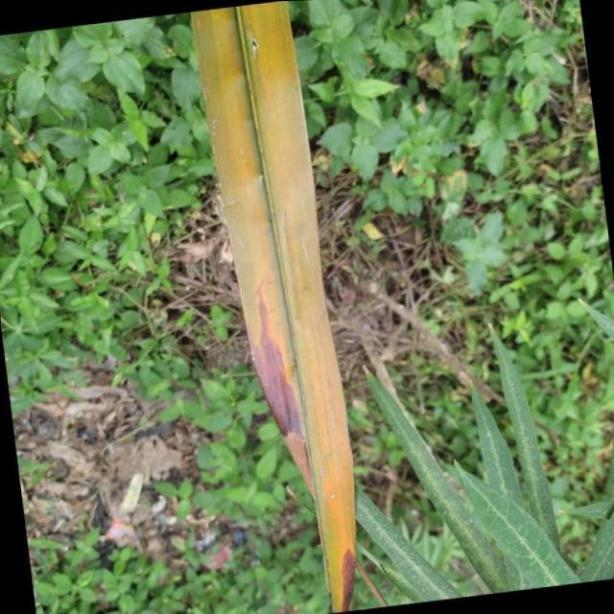Megnesium: (190, 0, 357, 614)
